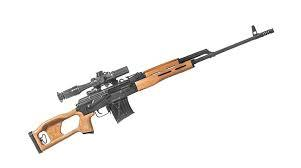larga: (28, 24, 275, 154)
